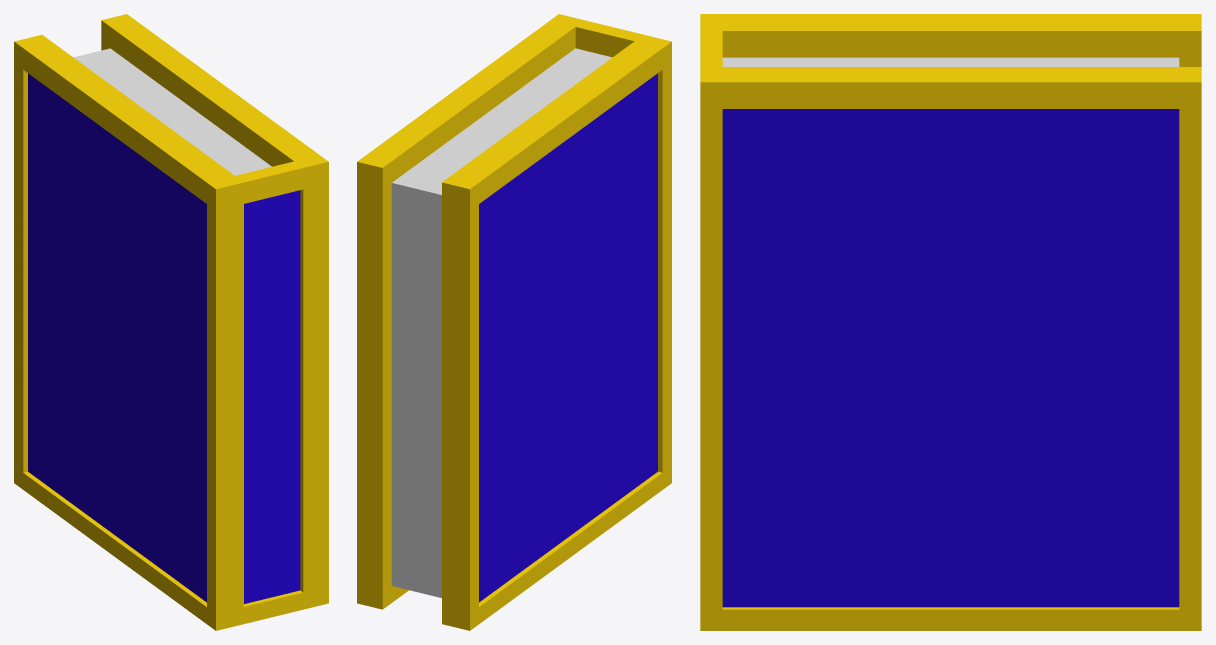
The model's file is BookIceSpellPickUp.fbx.
3 renders of one model, left to right at view 1: azimuth 30°, elevation 25°; view 2: azimuth 150°, elevation 25°; view 3: azimuth 270°, elevation 25°, orthographic. The views are drawn at different scales.
Parts seen in each view (by area): view 1: Cube; view 2: Cube; view 3: Cube.
Part boxes in pixels (x1,y1,x2,y2): Cube: (14,14,328,630); Cube: (357,14,671,630); Cube: (700,14,1201,630).
Size of the model in its own units: 143 by 535 by 443.
